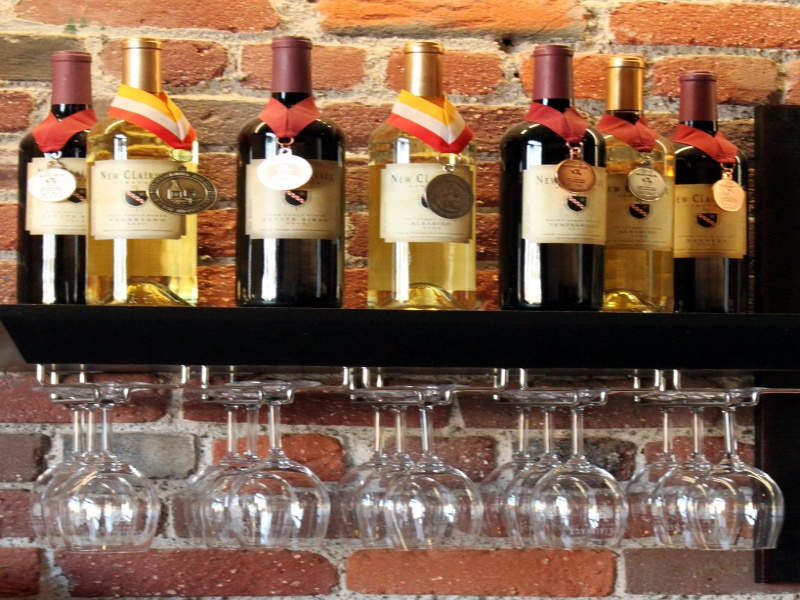wine: (18, 30, 796, 326)
